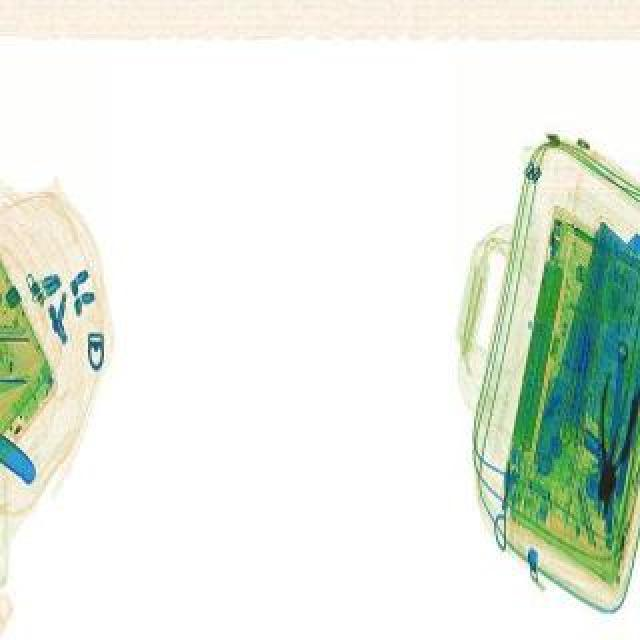gun: (574, 430, 626, 538)
knife: (532, 234, 610, 478)
wrench: (588, 386, 640, 506)
